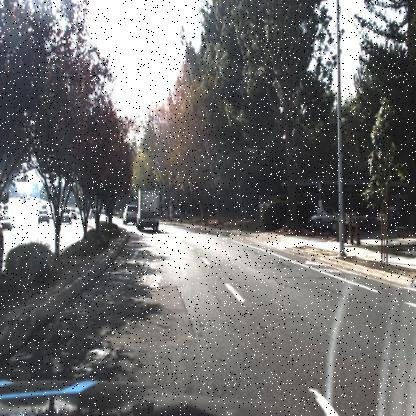car: (304, 202, 350, 238), (306, 206, 350, 235), (348, 205, 386, 230), (122, 202, 137, 228), (57, 205, 72, 226), (59, 203, 73, 224), (35, 208, 51, 224), (0, 216, 14, 230), (71, 207, 79, 223)
truck: (134, 186, 163, 234)
